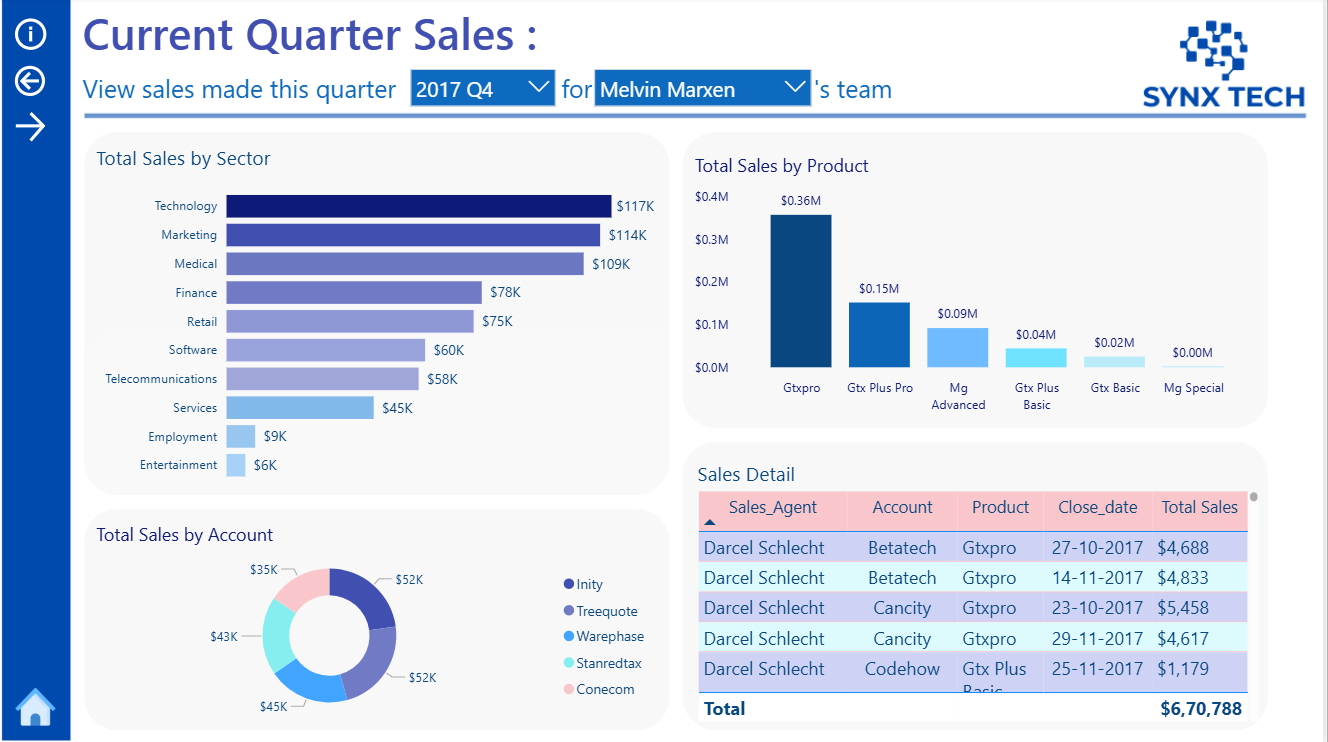

What the dashboard file says about the page in this screenshot:
{"tool":"powerbi","page":{"name":"C.QTR Sales breakdown","canvas":[1280,720],"ordinal":1},"visuals":[{"type":"barChart","title":"Total Sales by Sector","fields":{"Category":["accounts.sector"],"Y":["sales_pipeline.Total Sales"]},"box":[91.4,142.9,548.6,337.1],"z":0},{"type":"clusteredColumnChart","fields":{"Category":["sales_pipeline.Product"],"Y":["sales_pipeline.Total Sales"]},"box":[670,151.1,552.2,257.8],"z":1000},{"type":"donutChart","title":"Total Sales by Account","fields":{"Category":["sales_pipeline.account"],"Y":["sales_pipeline.Total Sales"]},"box":[91.4,507.1,548.6,197.1],"z":2000},{"type":"tableEx","title":"Sales Detail","fields":{"Values":["sales_teams.Sales_Agent","sales_pipeline.account","sales_pipeline.Product","sales_pipeline.close_date","sales_pipeline.Total Sales"]},"box":[671.4,447.1,551.4,257.1],"z":3000},{"type":"textbox","box":[78.6,0,471.4,67.1],"z":4000},{"type":"textbox","box":[78.6,67.1,471.4,44.3],"z":5000},{"type":"actionButton","title":"Back arrow Button","box":[13,62,99.6,39],"z":6000},{"type":"actionButton","title":"i Button pg2","box":[13,15.9,99.6,40.4],"z":7000},{"type":"slicer","title":"Manger dropdown 2","fields":{"Values":["sales_teams.Manager"]},"box":[567.1,58.6,230,91.4],"z":8000},{"type":"textbox","box":[784.3,67.1,111.4,47.1],"z":9000},{"type":"slicer","title":"QTR dropdown 2","fields":{"Values":["Date_Table.Year_Quarter"]},"box":[390,58.6,160,48.6],"z":10000},{"type":"textbox","box":[540,67.1,52.9,42.9],"z":11000},{"type":"image","box":[12.9,665.7,50,38.6],"z":15000},{"type":"actionButton","box":[13.3,106.7,100,38.3],"z":16000}]}

Visuals, with their boxes in screenshot pixels (x1, y1, x2, y2), scaled from the page's 1280x720 canvas onto the 1328x742 screenshot:
"Total Sales by Sector" barChart: left=95, top=147, right=664, bottom=495
clusteredColumnChart - sales_pipeline.Product x sales_pipeline.Total Sales: left=695, top=156, right=1268, bottom=421
"Total Sales by Account" donutChart: left=95, top=523, right=664, bottom=726
"Sales Detail" tableEx: left=697, top=461, right=1269, bottom=726
textbox: left=82, top=0, right=571, bottom=69
textbox: left=82, top=69, right=571, bottom=115
"Back arrow Button" actionButton: left=13, top=64, right=117, bottom=104
"i Button pg2" actionButton: left=13, top=16, right=117, bottom=58
"Manger dropdown 2" slicer: left=588, top=60, right=827, bottom=155
textbox: left=814, top=69, right=929, bottom=118
"QTR dropdown 2" slicer: left=405, top=60, right=571, bottom=110
textbox: left=560, top=69, right=615, bottom=113
image: left=13, top=686, right=65, bottom=726
actionButton: left=14, top=110, right=118, bottom=149
